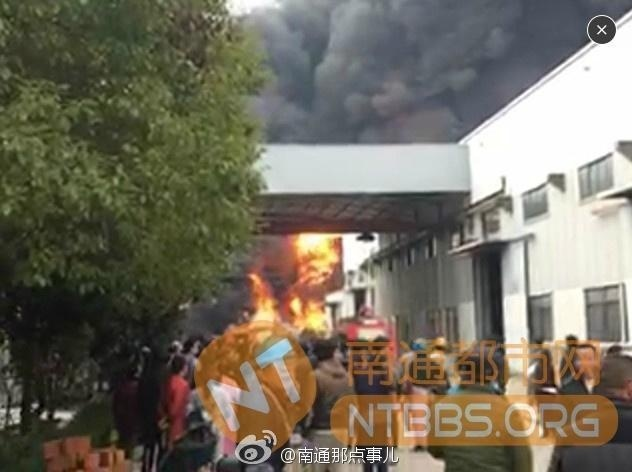fire: (245, 231, 342, 327)
